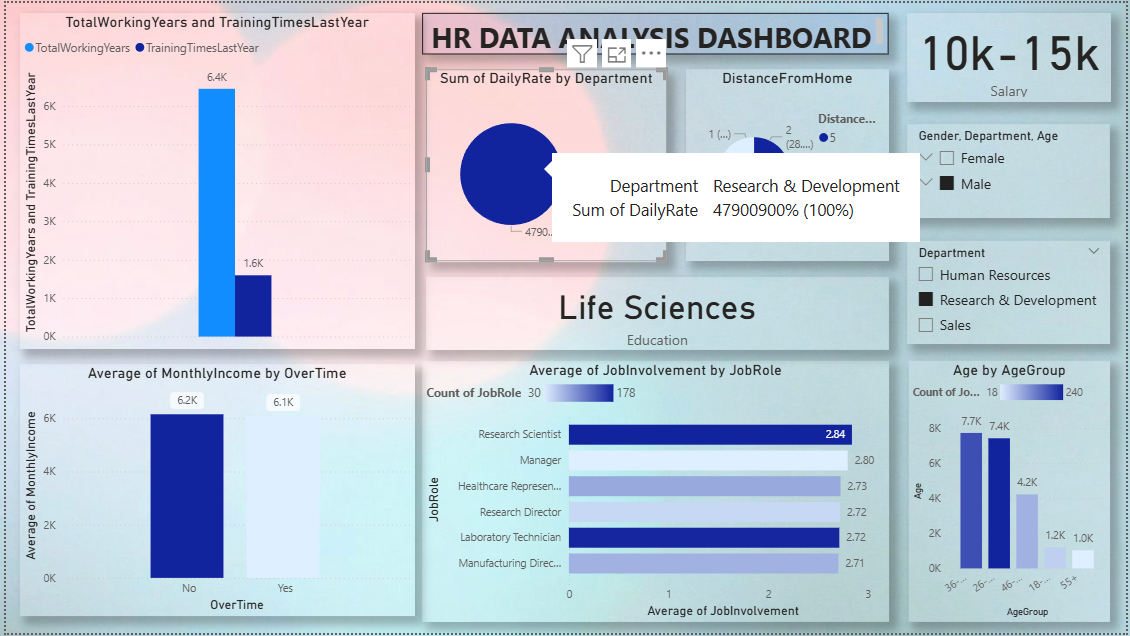

What the dashboard file says about the page in this screenshot:
{"tool":"powerbi","page":{"name":"Page 1","canvas":[1280,720],"ordinal":0},"visuals":[{"type":"columnChart","fields":{"Category":["HR_Analytics.AgeGroup"],"Y":["Sum(HR_Analytics.Age)"]},"box":[1031.9,408.3,230.6,298.6],"z":0},{"type":"lineClusteredColumnComboChart","fields":{"Y":["Avg(HR_Analytics.MonthlyIncome)"],"Category":["HR_Analytics.OverTime"]},"box":[15.1,413,451.5,288.2],"z":1000},{"type":"clusteredBarChart","fields":{"Category":["HR_Analytics.JobRole"],"Y":["Avg(HR_Analytics.JobInvolvement)"]},"box":[476.4,408.3,533.3,298.6],"z":2000},{"type":"clusteredColumnChart","fields":{"Y":["Sum(HR_Analytics.TotalWorkingYears)","Sum(HR_Analytics.TrainingTimesLastYear)"]},"box":[15,11.2,451.2,383.8],"z":4000},{"type":"pieChart","fields":{"Y":["Sum(HR_Analytics.DailyRate)"],"Category":["HR_Analytics.Department"]},"box":[480.6,75,275,220.8],"z":5000},{"type":"textbox","box":[476.2,11.2,532.5,47.5],"z":6000},{"type":"card","fields":{"Values":["Min(HR_Analytics.SalarySlab)"]},"box":[1030,11.2,232.5,101.2],"z":7000},{"type":"card","fields":{"Values":["Min(HR_Analytics.EducationField)"]},"box":[480.6,312.5,529.2,83.3],"z":8000},{"type":"slicer","fields":{"Values":["HR_Analytics.Gender","HR_Analytics.Department","HR_Analytics.Age"]},"box":[1030,138.8,231.2,107.5],"z":9000},{"type":"pieChart","title":"DistanceFromHome","fields":{"Category":["HR_Analytics.DistanceFromHome"],"Y":["CountNonNull(HR_Analytics.EmpID)"]},"box":[777.8,76.4,231.9,219.4],"z":12000},{"type":"slicer","fields":{"Values":["HR_Analytics.Department"]},"box":[1030.6,270.8,231.9,118.1],"z":12001}]}

Visuals, with their boxes in screenshot pixels (x1, y1, x2, y2), scaled from the page's 1280x720 canvas onto the 1130x636 screenshot:
columnChart - HR_Analytics.AgeGroup x Sum(HR_Analytics.Age): [911,361,1115,624]
lineClusteredColumnComboChart - Avg(HR_Analytics.MonthlyIncome) x HR_Analytics.OverTime: [13,365,412,619]
clusteredBarChart - HR_Analytics.JobRole x Avg(HR_Analytics.JobInvolvement): [421,361,891,624]
clusteredColumnChart - Sum(HR_Analytics.TotalWorkingYears) x Sum(HR_Analytics.TrainingTimesLastYear): [13,10,412,349]
pieChart - Sum(HR_Analytics.DailyRate) x HR_Analytics.Department: [424,66,667,261]
textbox: [420,10,890,52]
card - Min(HR_Analytics.SalarySlab): [909,10,1115,99]
card - Min(HR_Analytics.EducationField): [424,276,891,350]
slicer - HR_Analytics.Gender x HR_Analytics.Department: [909,123,1113,218]
"DistanceFromHome" pieChart: [687,67,891,261]
slicer - HR_Analytics.Department: [910,239,1115,344]
